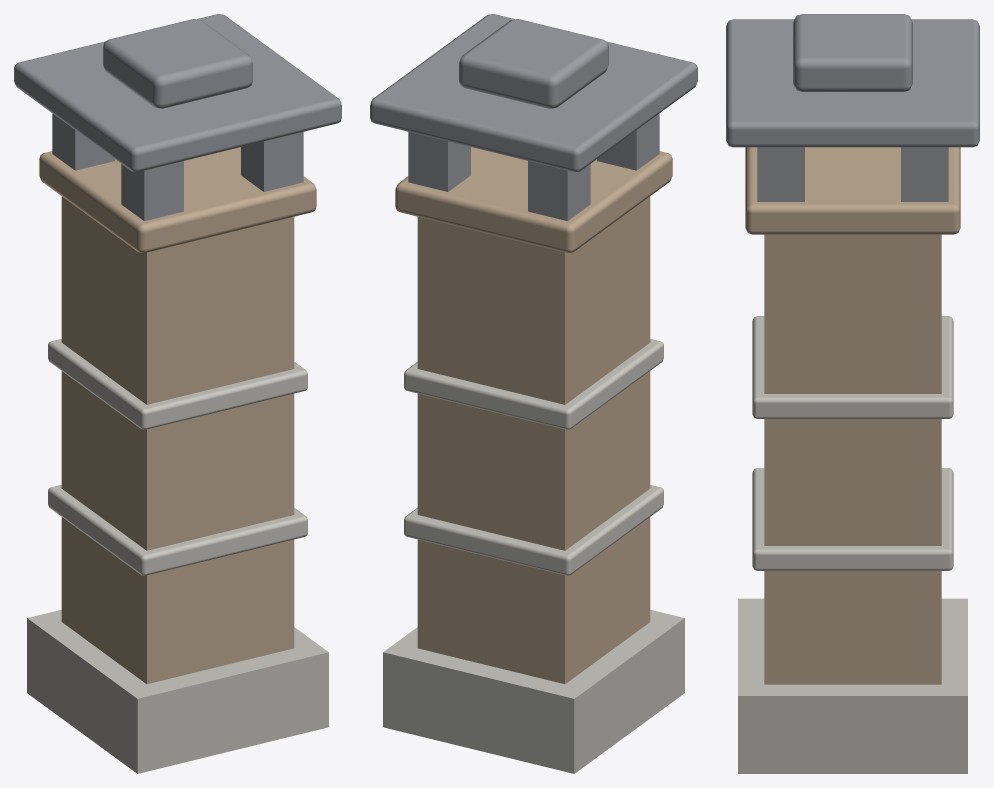
Rendered from korean-hanok-village-and-street-chimney-stack-b7f9cd50__38056.glb.
3 views of the same model, side by side, from view 1: azimuth 30°, elevation 25°; view 2: azimuth 150°, elevation 25°; view 3: azimuth 270°, elevation 25° (orthographic). The views are drawn at different scales.
Parts seen in each view (by area): view 1: chimney-stack; view 2: chimney-stack; view 3: chimney-stack.
Boxes of the visible parts, <box> form: chimney-stack: <box>14,14,341,773</box>; chimney-stack: <box>370,14,697,773</box>; chimney-stack: <box>726,14,979,773</box>.
Bounding box in the file's own units: 1.06 × 3.18 × 1.06.
